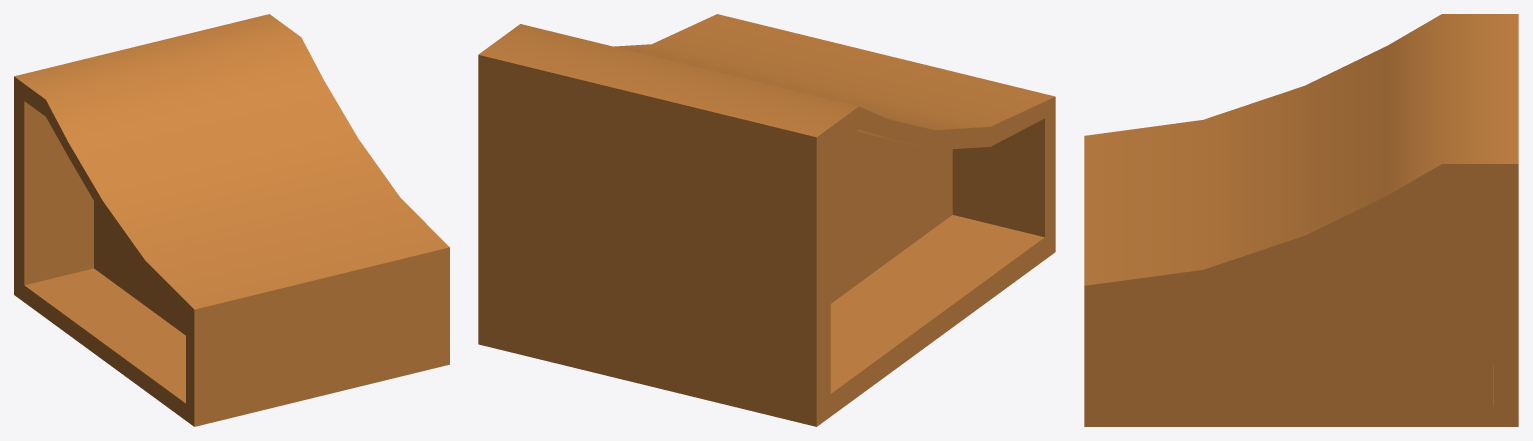
File: Left wing small.fbx
3 renders of one model, left to right at view 1: azimuth 30°, elevation 25°; view 2: azimuth 150°, elevation 25°; view 3: azimuth 270°, elevation 25°, orthographic. The views are drawn at different scales.
Parts seen in each view (by area): view 1: polySurface101; view 2: polySurface101; view 3: polySurface101.
Part boxes in pixels (x1,y1,x2,y2): polySurface101: [14, 14, 449, 426]; polySurface101: [478, 14, 1055, 426]; polySurface101: [1084, 14, 1518, 426].
Size of the model in its own units: 1.48 by 1.21 by 1.81.
1 material, 1 textured.
